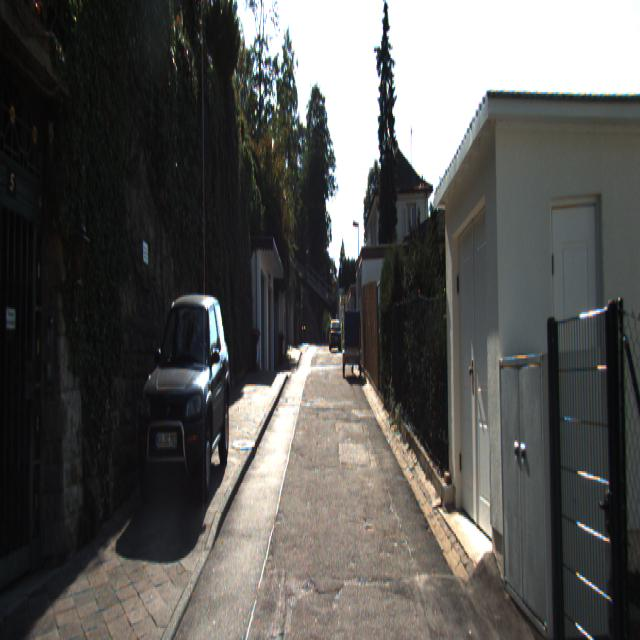Car: (130, 297, 232, 507), (342, 306, 362, 378), (328, 319, 342, 353)
